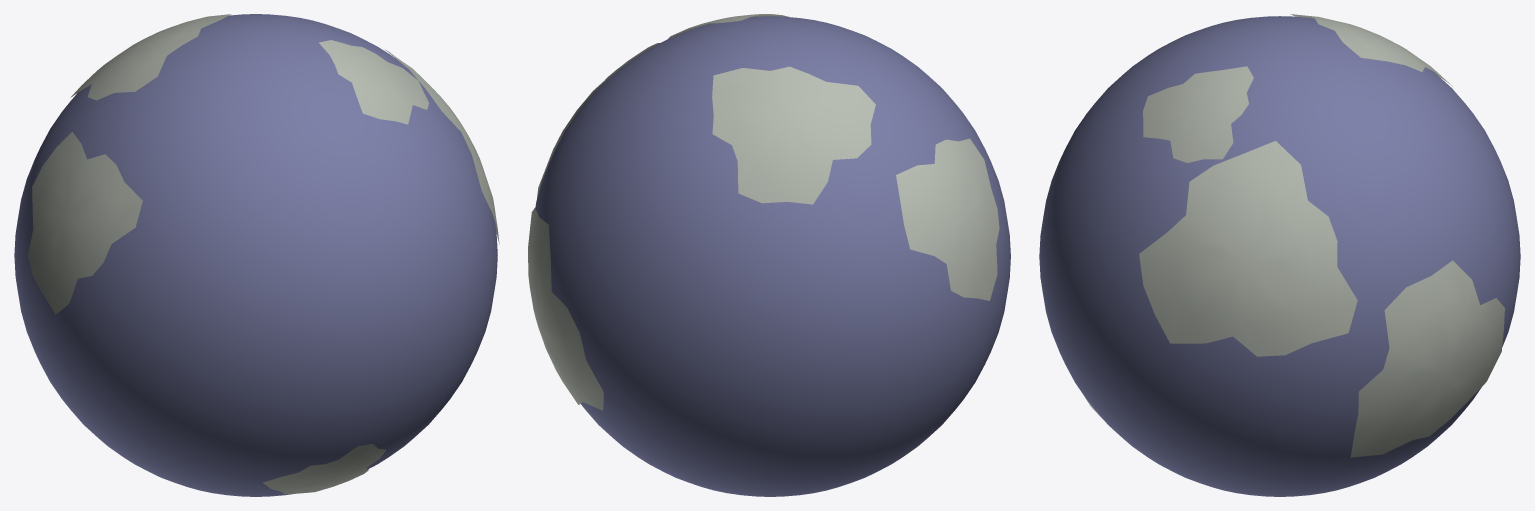
The model's file is planet_07.glb.
3 views of the same model, side by side, from view 1: azimuth 30°, elevation 25°; view 2: azimuth 150°, elevation 25°; view 3: azimuth 270°, elevation 25° (orthographic).
Visible parts, largest first — view 1: planet_07_painted_mesh; view 2: planet_07_painted_mesh; view 3: planet_07_painted_mesh.
Part boxes in pixels (bbox=[...]): planet_07_painted_mesh: bbox=[14, 14, 499, 496]; planet_07_painted_mesh: bbox=[528, 14, 1010, 496]; planet_07_painted_mesh: bbox=[1039, 14, 1520, 496].
Bounding box in the file's own units: 2.02 × 2 × 2.
